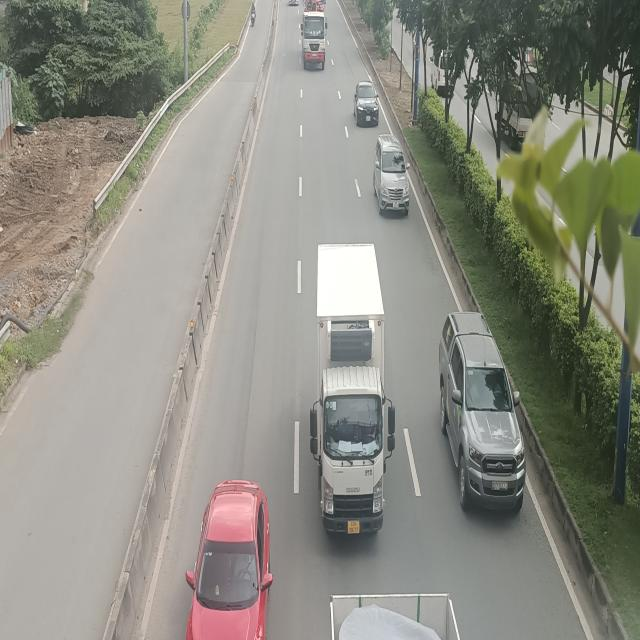car: (441, 310, 527, 512), (372, 138, 408, 218), (352, 81, 379, 126)
truck: (307, 244, 393, 542), (299, 0, 326, 70)
